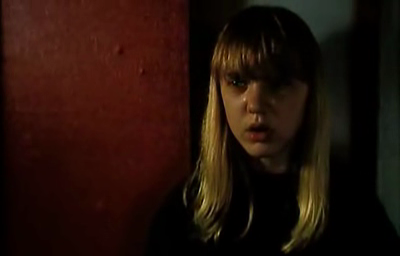cu: (1, 1, 400, 256)
face: (221, 56, 303, 157)
person: (183, 4, 400, 256)
